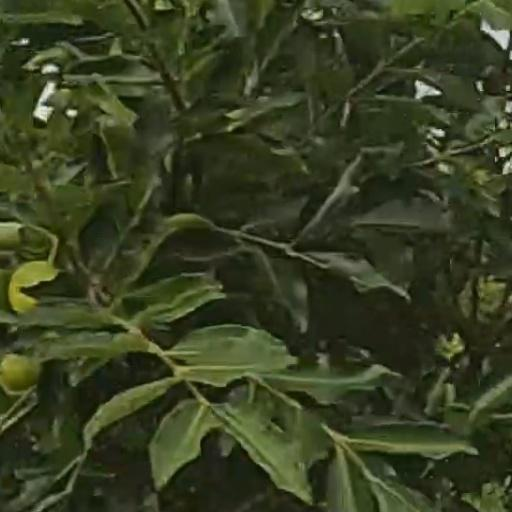acerola: (5, 355, 40, 391)
